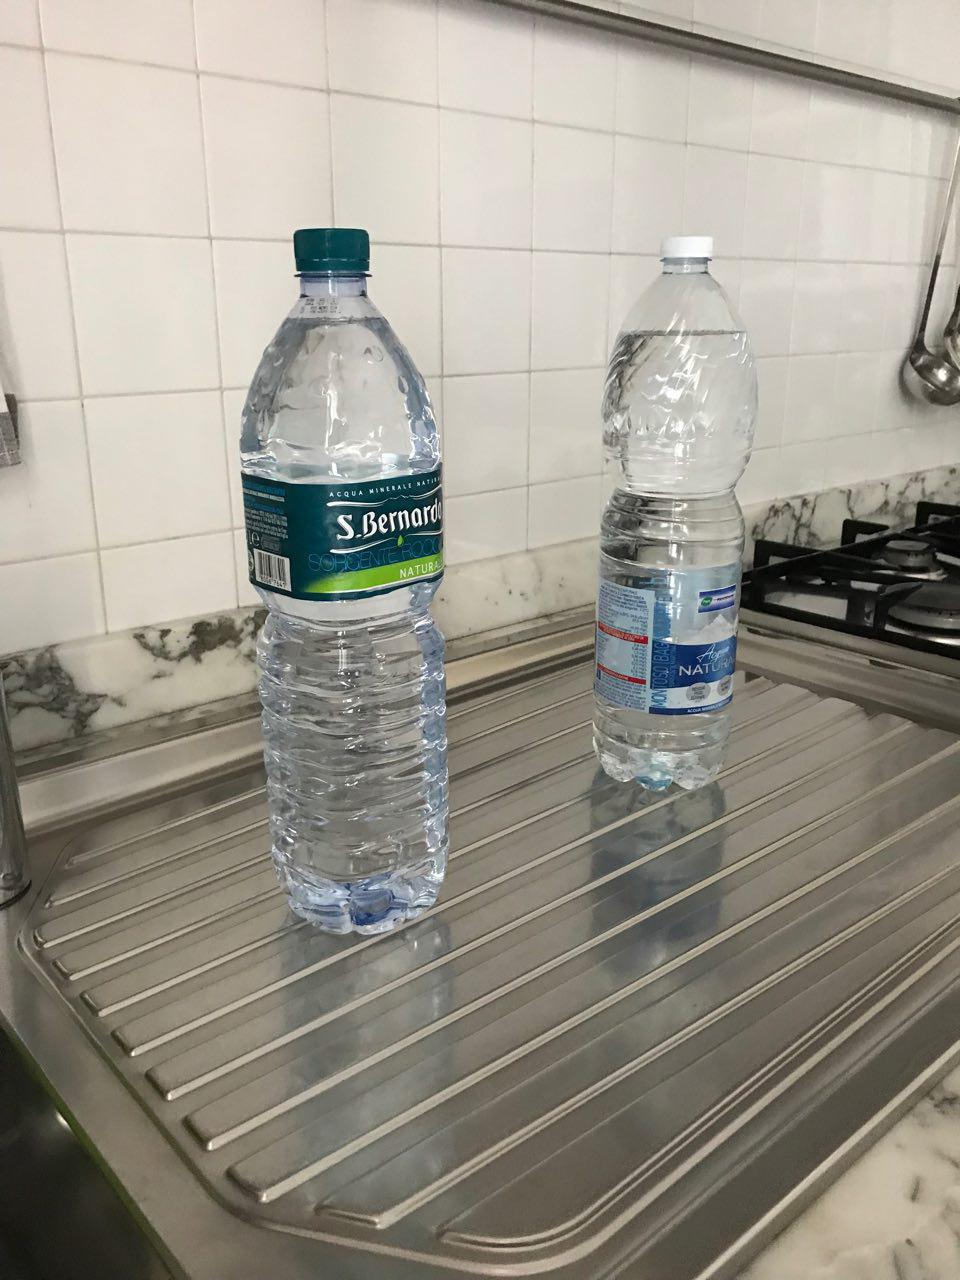san_bernardo: (238, 226, 451, 935)
